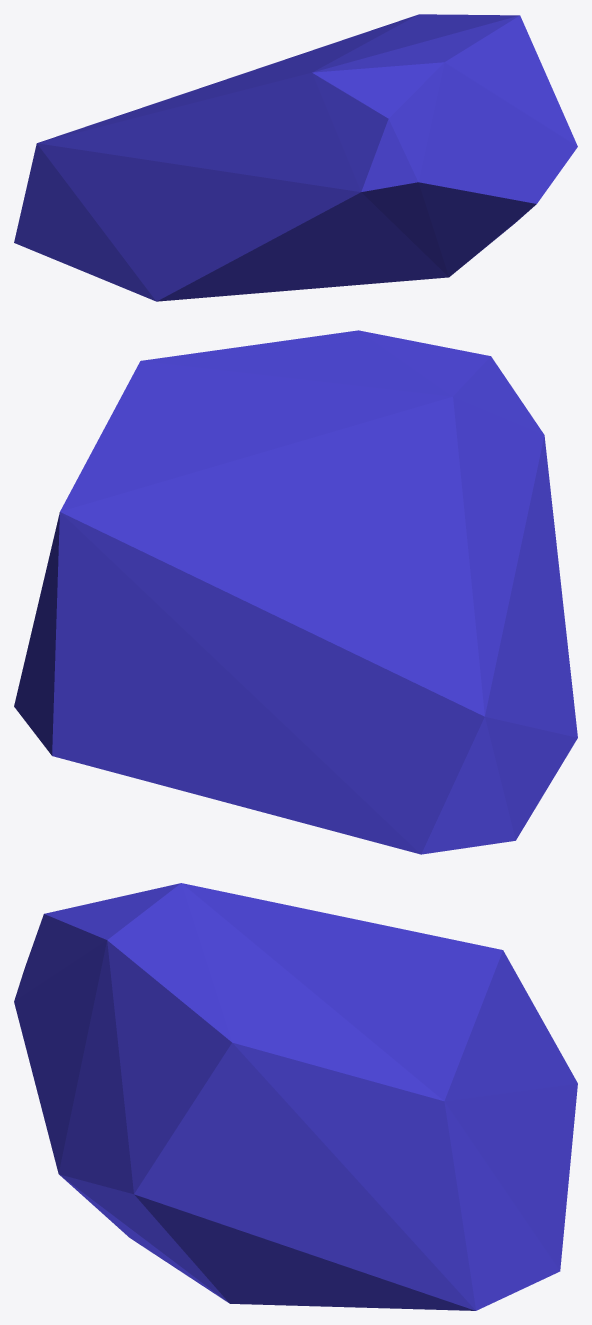
Rendered from Boulder_03_Collider_01.FBX.
3 renders of one model, top to bottom at view 1: azimuth 30°, elevation 25°; view 2: azimuth 150°, elevation 25°; view 3: azimuth 270°, elevation 25°, orthographic. The views are drawn at different scales.
Parts seen in each view (by area): view 1: COLLIDER1; view 2: COLLIDER1; view 3: COLLIDER1.
Part boxes in pixels (left/top/right/bottom): COLLIDER1: left=14, top=14, right=577, bottom=301; COLLIDER1: left=14, top=330, right=577, bottom=854; COLLIDER1: left=14, top=883, right=577, bottom=1310.
Size of the model in its own units: 95.88 by 48.86 by 86.32.
